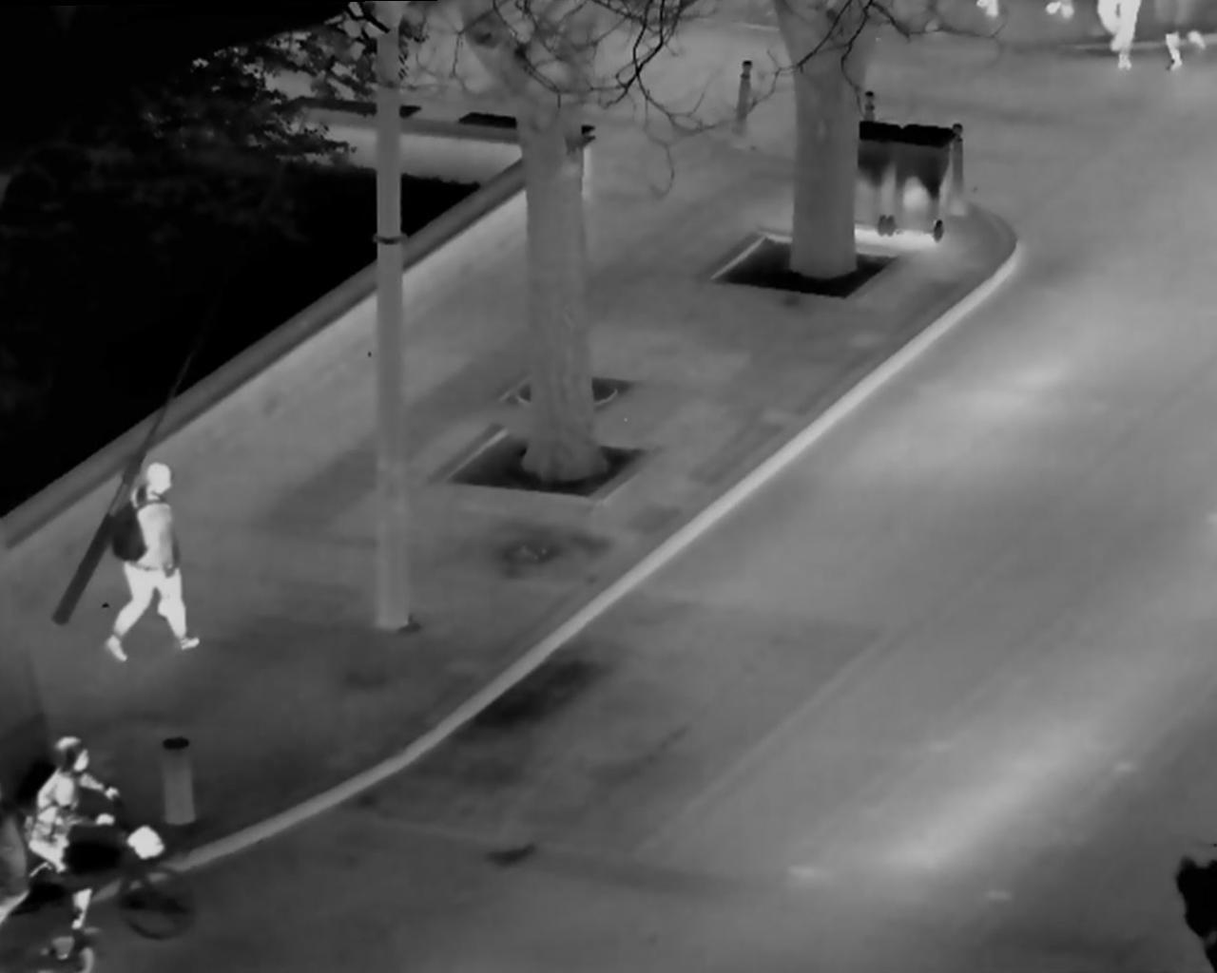person: (98, 455, 209, 665), (18, 723, 121, 932)
